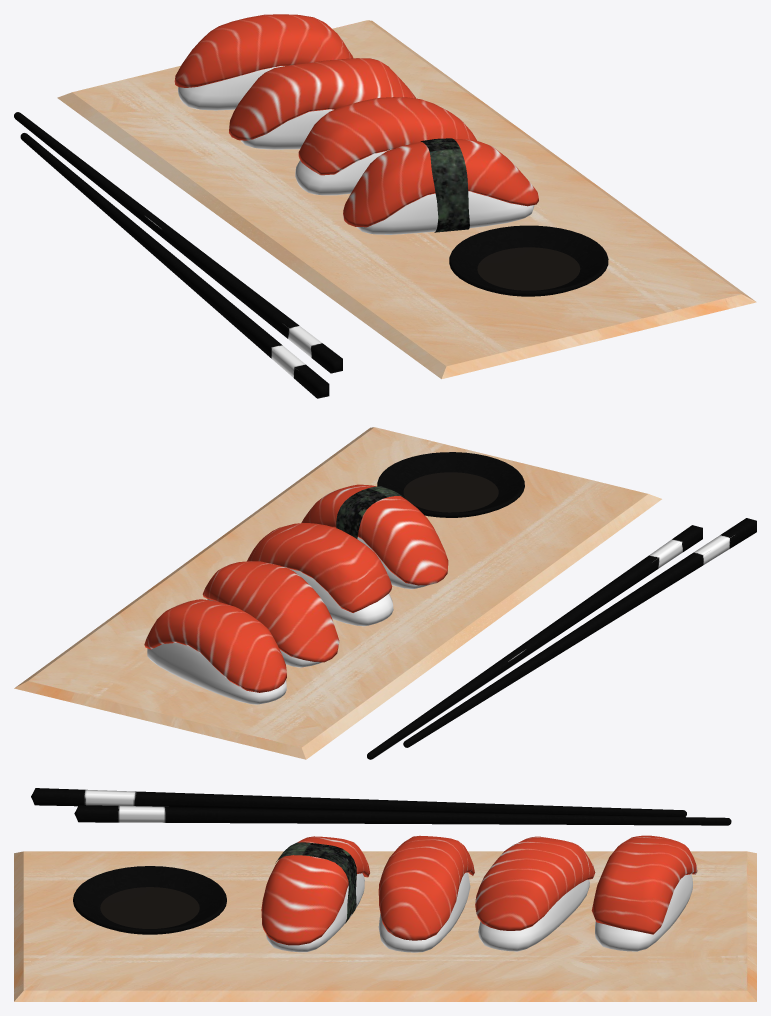
Rendered from niguiri-salmao.glb.
The picture shows the model from 3 angles, top to bottom: view 1: azimuth 30°, elevation 25°; view 2: azimuth 150°, elevation 25°; view 3: azimuth 270°, elevation 25°; orthographic projection. The views are drawn at different scales.
Parts seen in each view (by area): view 1: defaultMaterial; view 2: defaultMaterial; view 3: defaultMaterial.
Part boxes in pixels (x1,y1,x2,y2): defaultMaterial: (14, 14, 756, 398); defaultMaterial: (14, 427, 756, 759); defaultMaterial: (14, 788, 756, 1001).
Size of the model in its own units: 0.1545 by 0.028 by 0.24.
Materials: 1 (1 with a texture image).
